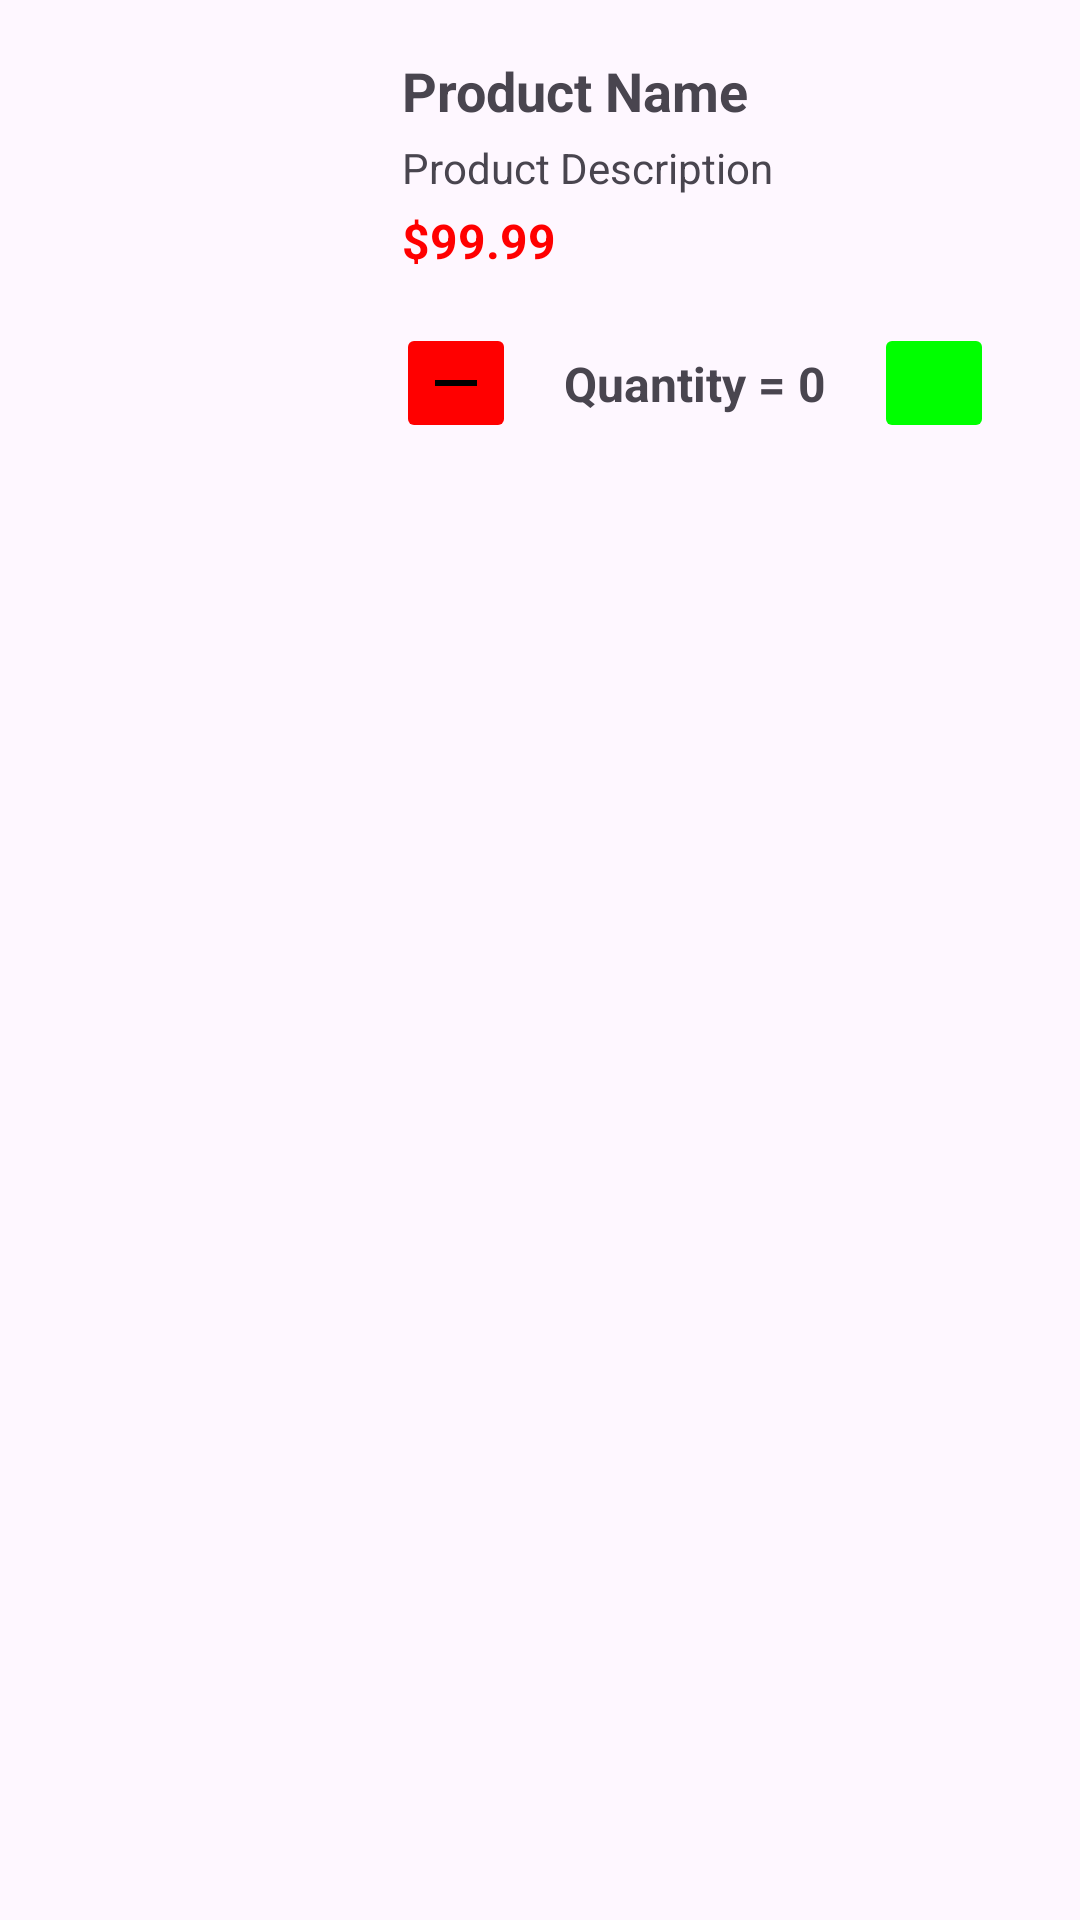

Screen size 1080px×1920px. Icon name, then its box in pixels as (x1, y1, x2, y2):
decrease: (408, 341, 504, 425)
